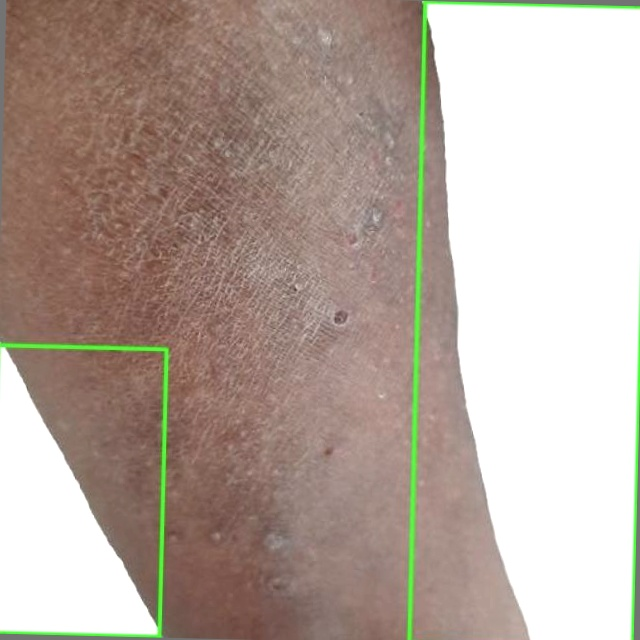Contact Dermatitis: (409, 1, 639, 639), (0, 345, 166, 636)
